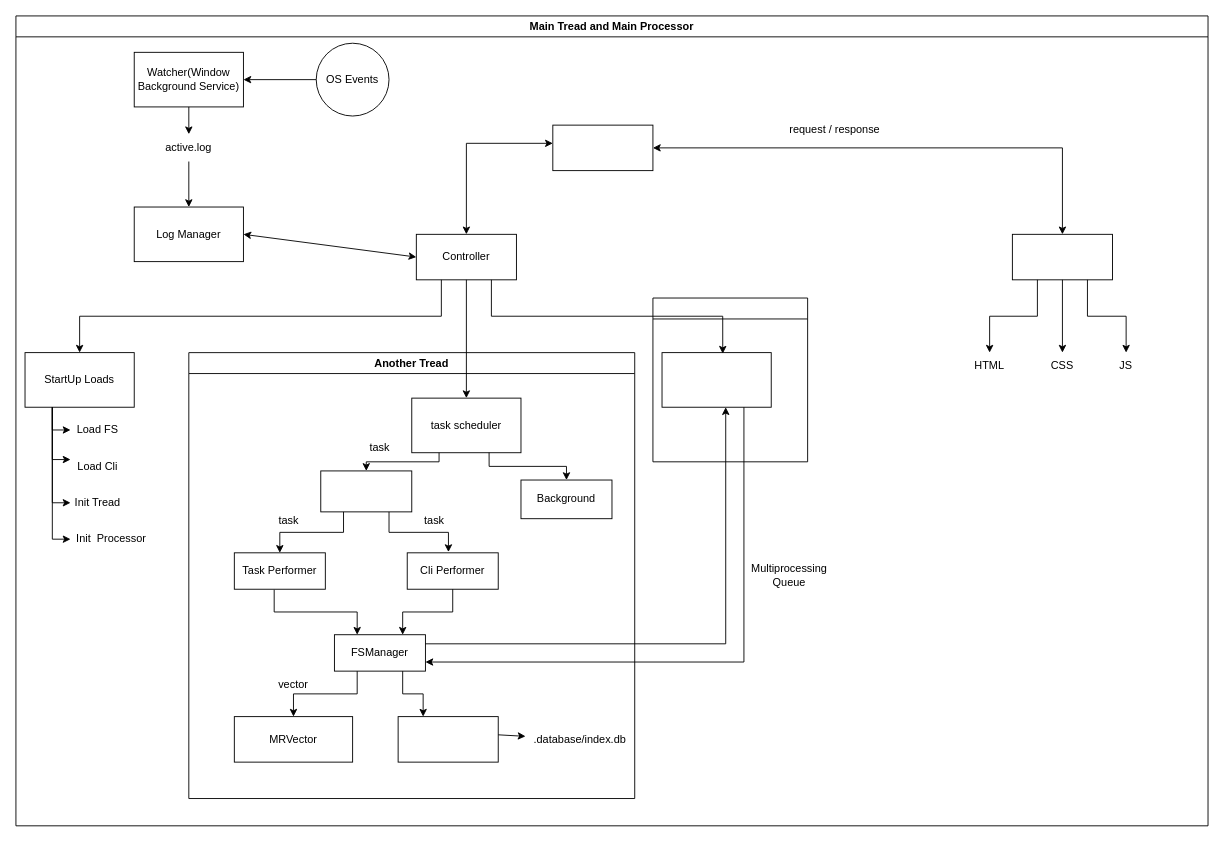
This 1224x842 diagram has some shape labels left out. The shapes that lost their labels are listed below. From the top down, each one's box as (x1, y1, x2, y2) in pixels, then its label:
(552, 124, 653, 171): API
(1011, 233, 1112, 280): FrontEnd
(661, 352, 771, 407): Tag Genration
(652, 297, 808, 462): Another Processor
(320, 470, 412, 512): Task Handler
(397, 716, 498, 762): Indexer/Storage
